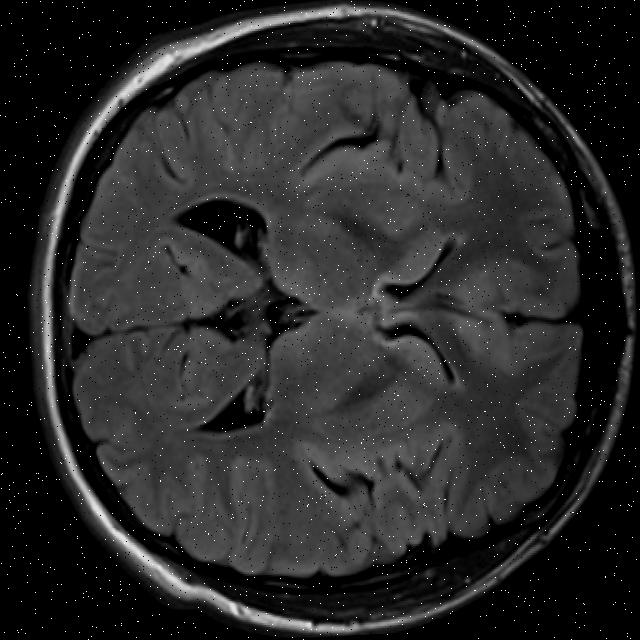NoTumor: (11, 0, 640, 640)
